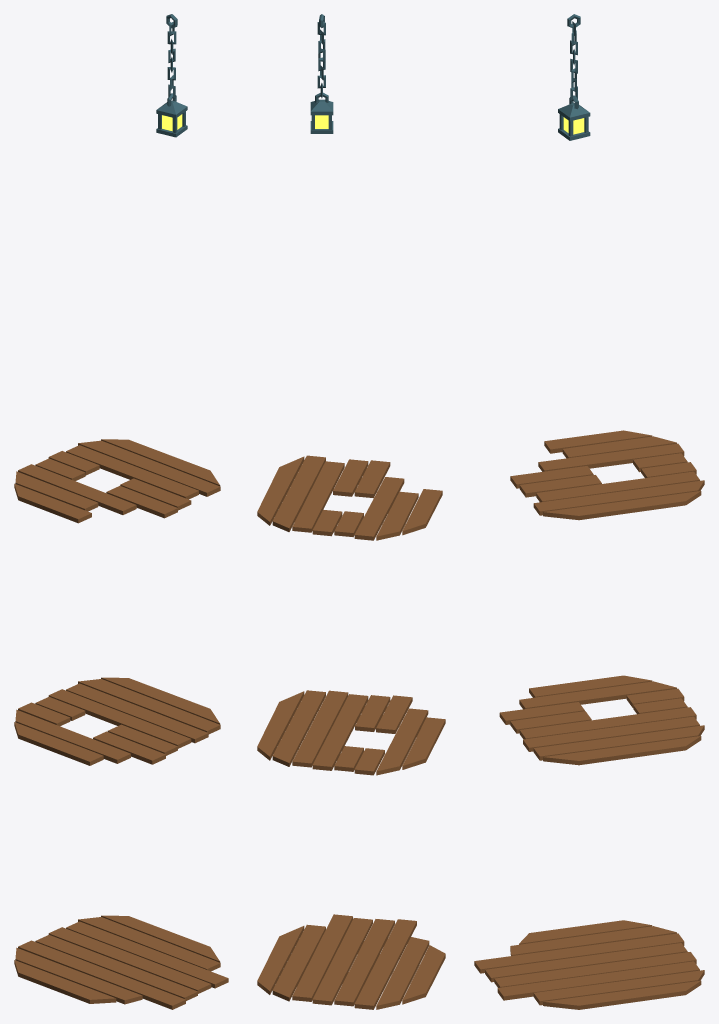
3 renders of one model, left to right at view 1: azimuth 30°, elevation 25°; view 2: azimuth 150°, elevation 25°; view 3: azimuth 270°, elevation 25°, orthographic. The views are drawn at different scales.
Parts seen in each view (by area): view 1: Plane232_brown_0, Plane231_brown_0, Plane230_brown_0, Box15672_metal_0; view 2: Plane232_brown_0, Plane231_brown_0, Plane230_brown_0, Box15672_metal_0; view 3: Plane232_brown_0, Plane231_brown_0, Plane230_brown_0, Box15672_metal_0.
Boxes of the visible parts, x1,y1,x2,y2 form: Plane232_brown_0: [14, 915, 228, 1009]; Plane231_brown_0: [14, 677, 220, 765]; Plane230_brown_0: [14, 439, 220, 523]; Box15672_metal_0: [156, 100, 187, 137]; Plane232_brown_0: [257, 914, 445, 1009]; Plane231_brown_0: [257, 690, 445, 775]; Plane230_brown_0: [257, 455, 442, 540]; Box15672_metal_0: [310, 99, 333, 133]; Plane232_brown_0: [474, 920, 704, 1009]; Plane231_brown_0: [499, 675, 704, 765]; Plane230_brown_0: [510, 430, 704, 520]; Box15672_metal_0: [558, 103, 590, 140].
Size of the model in its own units: 344 by 1832 by 392.
